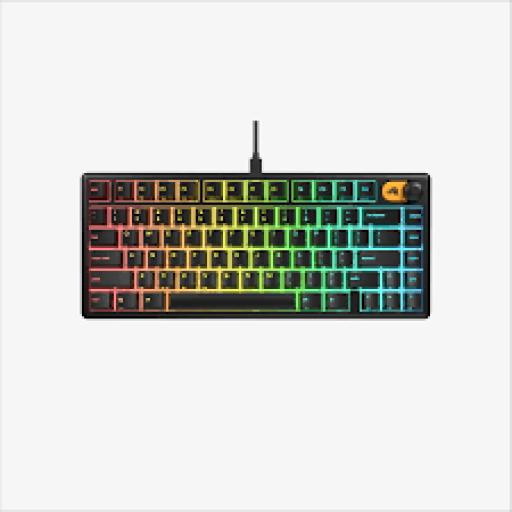KEYBOARD-2: (84, 173, 428, 316)
